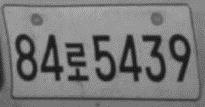3: (141, 34, 166, 82)
4: (39, 33, 64, 81), (118, 33, 142, 81)
5: (91, 34, 116, 81)
8: (14, 33, 37, 81)
9: (168, 33, 191, 82)
로: (64, 41, 89, 81)
